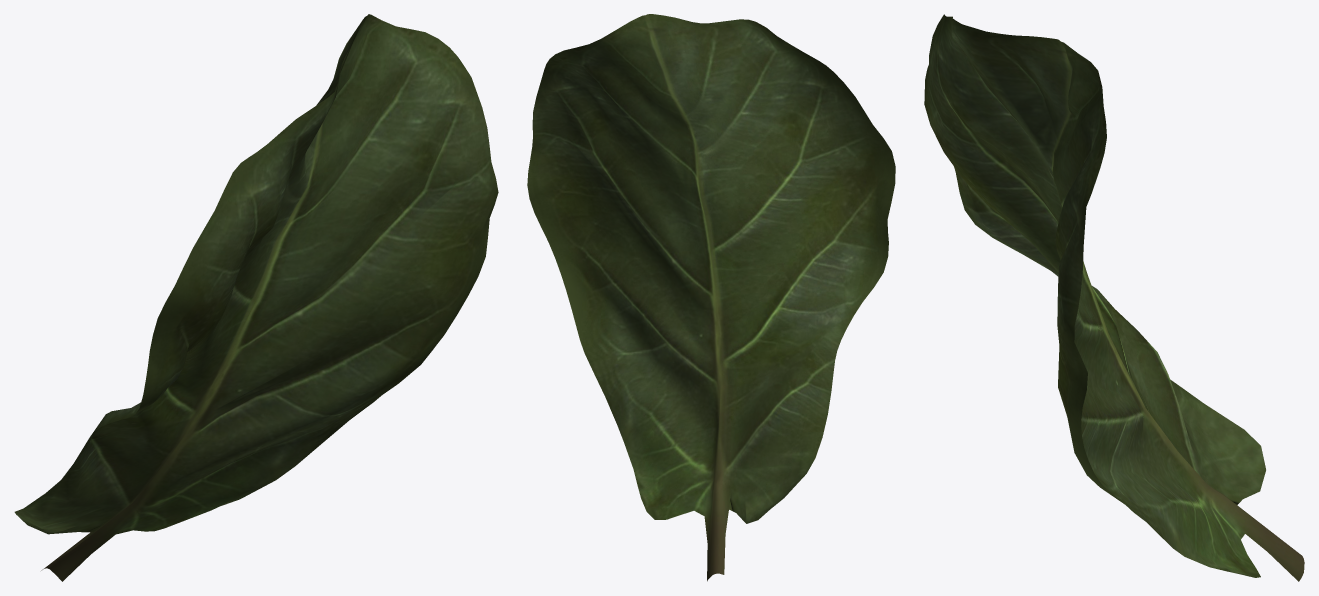
3 views of the same model, side by side, from view 1: azimuth 30°, elevation 25°; view 2: azimuth 150°, elevation 25°; view 3: azimuth 270°, elevation 25° (orthographic). The views are drawn at different scales.
Parts seen in each view (by area): view 1: G-Plane209 68% 68% 68% 68%.012; view 2: G-Plane209 68% 68% 68% 68%.012; view 3: G-Plane209 68% 68% 68% 68%.012.
Part boxes in pixels (left/top/right/bottom): G-Plane209 68% 68% 68% 68%.012: left=14, top=14, right=498, bottom=581; G-Plane209 68% 68% 68% 68%.012: left=527, top=14, right=895, bottom=581; G-Plane209 68% 68% 68% 68%.012: left=924, top=14, right=1304, bottom=581.
Bounding box in the file's own units: 0.9557 × 1.32 × 0.7072.
1 material, 1 textured.
